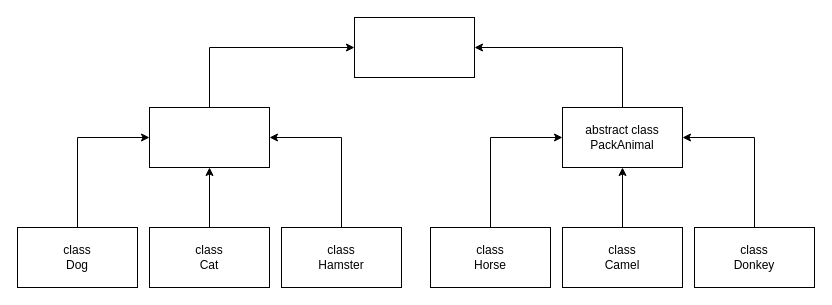
Image size: 832x305. Some labels were removed from this diagram. Here are the shapes that lost their labels. From the top down, the centre of each, then its label:
At point (414, 47): "abstract class Animal".
At point (209, 137): "abstract class Pet".
